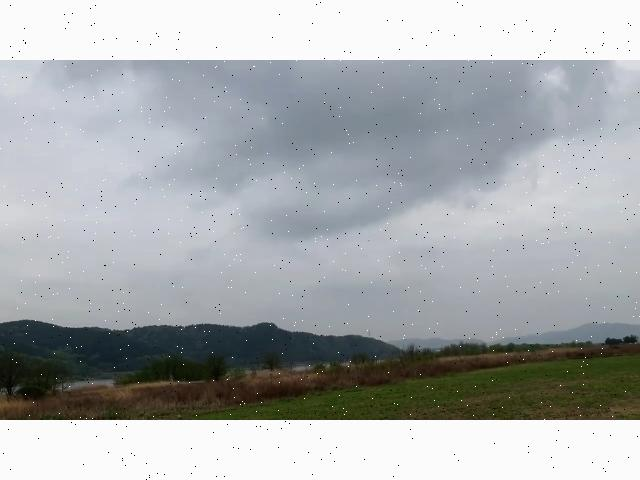Anti-Drone: (360, 235, 376, 247)
